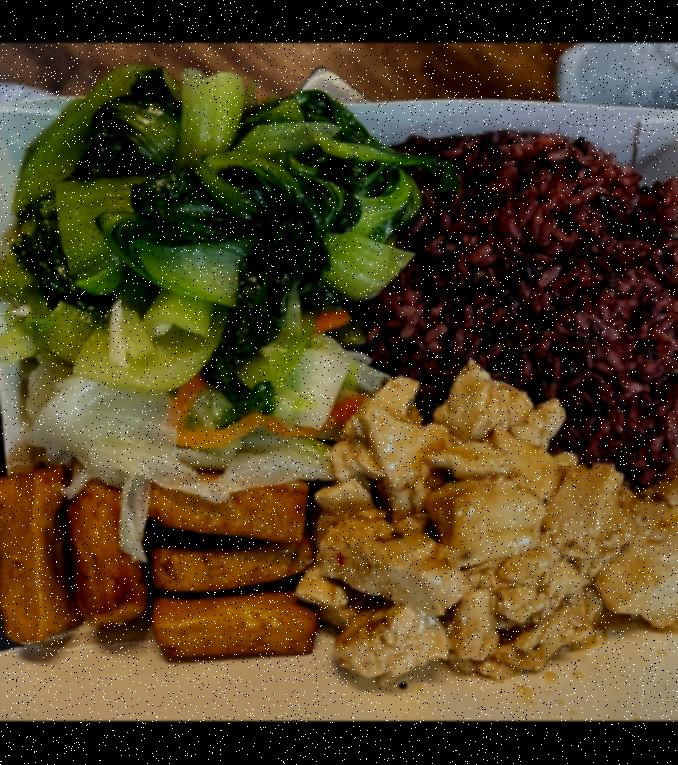box: (0, 62, 678, 684)
purple rice: (366, 139, 678, 491)
side dish: (0, 68, 436, 393), (309, 377, 678, 690), (0, 471, 311, 664), (30, 351, 372, 494)
